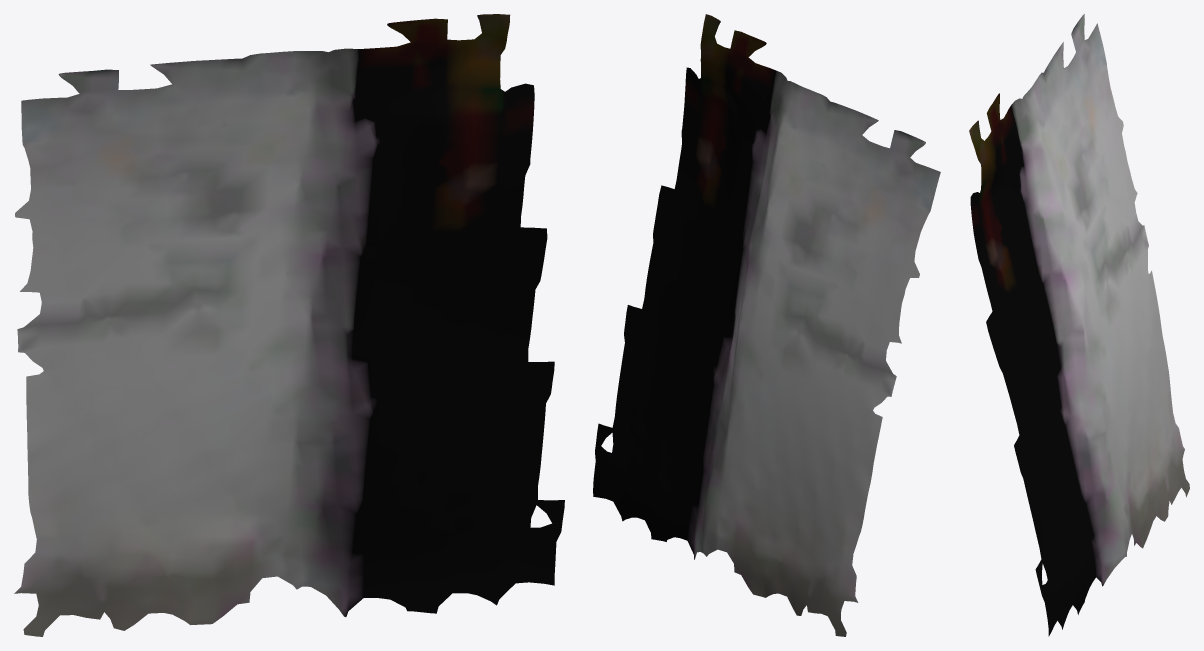
The model's file is scan_20261001_151608_68022.glb.
3 views of the same model, side by side, from view 1: azimuth 30°, elevation 25°; view 2: azimuth 150°, elevation 25°; view 3: azimuth 270°, elevation 25° (orthographic). The views are drawn at different scales.
Parts seen in each view (by area): view 1: MobileScan3D_scan; view 2: MobileScan3D_scan; view 3: MobileScan3D_scan.
Boxes of the visible parts, box(x1,y1,x2,y2) form: MobileScan3D_scan: box(14, 14, 564, 636); MobileScan3D_scan: box(593, 14, 940, 636); MobileScan3D_scan: box(969, 14, 1189, 636).
Size of the model in its own units: 0.1628 by 0.2025 by 0.0834.
